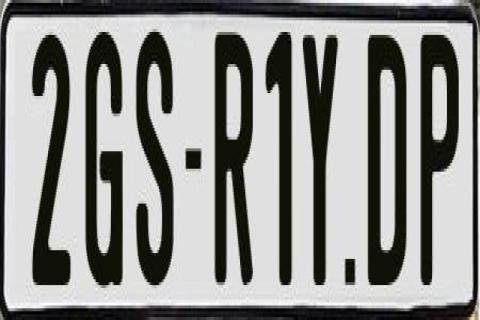0: (30, 27, 69, 280), (262, 32, 294, 296)
D: (366, 32, 404, 294)
G: (82, 29, 120, 291)
P: (417, 27, 461, 286)
R: (214, 27, 258, 297)
S: (134, 29, 174, 297)
Y: (300, 29, 335, 294)
